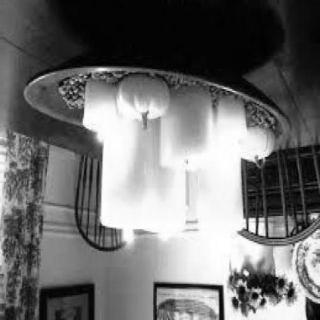Fire: (117, 217, 139, 249), (91, 119, 113, 142), (157, 226, 181, 246)
